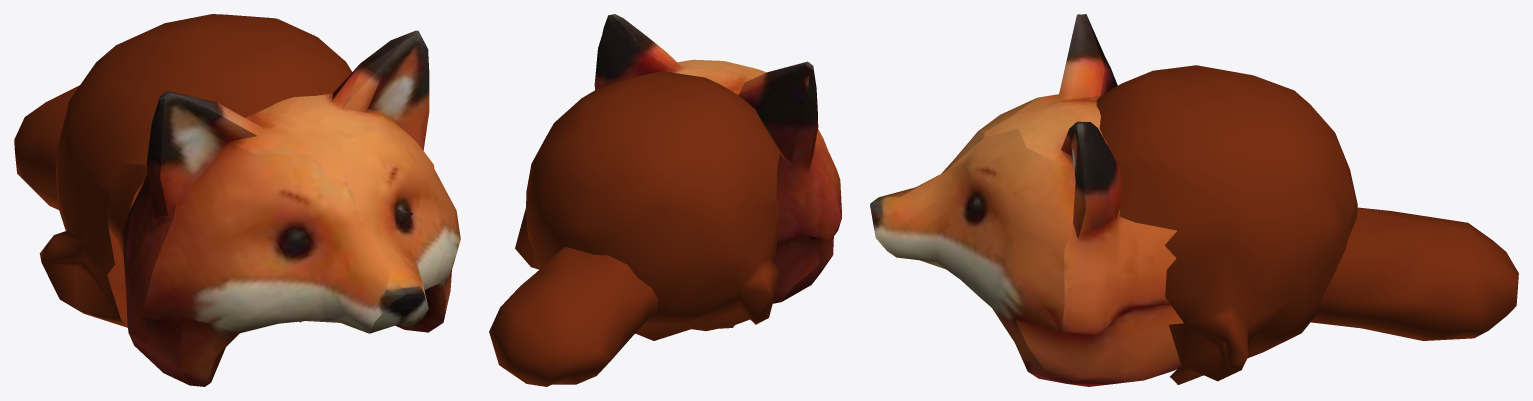
Rendered from red-fox.glb.
3 renders of one model, left to right at view 1: azimuth 30°, elevation 25°; view 2: azimuth 150°, elevation 25°; view 3: azimuth 270°, elevation 25°, orthographic. The views are drawn at different scales.
Visible parts, largest first — view 1: geometry_0, HoodAnatomicalLining; view 2: HoodAnatomicalLining, geometry_0; view 3: geometry_0, HoodAnatomicalLining.
Boxes of the visible parts, bbox=[...] form: geometry_0: bbox=[14, 30, 460, 386]; HoodAnatomicalLining: bbox=[39, 14, 351, 327]; HoodAnatomicalLining: bbox=[515, 71, 784, 340]; geometry_0: bbox=[489, 14, 841, 386]; geometry_0: bbox=[870, 14, 1518, 386]; HoodAnatomicalLining: bbox=[1096, 65, 1357, 384].
Bounding box in the file's own units: 0.4589 × 0.4258 × 0.8638.
2 materials, 1 textured.
